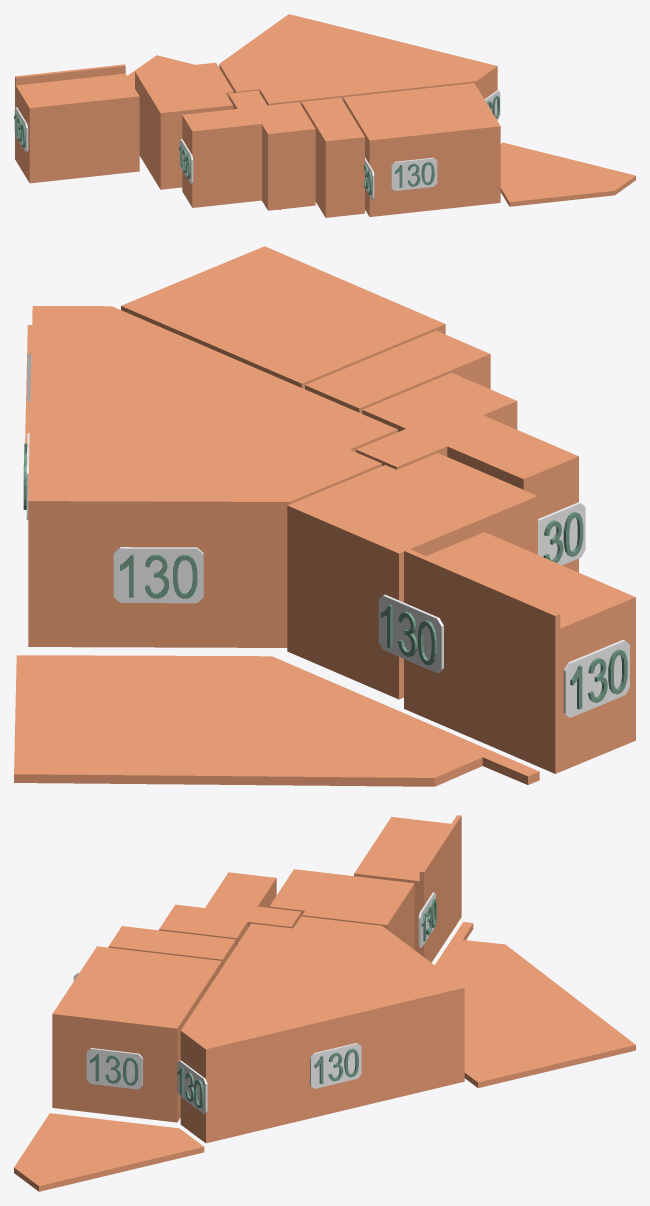
3 views of the same model, one above another, from view 1: azimuth 30°, elevation 25°; view 2: azimuth 150°, elevation 25°; view 3: azimuth 270°, elevation 25° (orthographic). The views are drawn at different scales.
Visible parts, largest first — view 1: g_0, g_1, g_3, g_5, g_4, g_2, g_7, g_39, g_6; view 2: g_0, g_6, g_5, g_4, g_1, g_3, g_2, g_19, g_11, g_43, g_23; view 3: g_0, g_1, g_6, g_7, g_5, g_4, g_3, g_2, g_35, g_31, g_15.
Boxes of the visible parts, x1,y1,x2,y2 form: g_0: (219, 14, 497, 120); g_1: (343, 83, 500, 216); g_3: (182, 90, 315, 210); g_5: (15, 64, 139, 183); g_4: (135, 62, 233, 189); g_2: (301, 97, 364, 217); g_7: (500, 142, 635, 206); g_39: (391, 157, 437, 190); g_6: (127, 55, 194, 87); g_0: (28, 306, 397, 647); g_6: (14, 655, 539, 786); g_5: (404, 532, 635, 773); g_4: (287, 453, 537, 699); g_1: (121, 246, 445, 389); g_3: (356, 373, 578, 572); g_2: (305, 330, 490, 413); g_19: (113, 547, 203, 603); g_11: (563, 639, 629, 717); g_43: (378, 594, 443, 672); g_23: (538, 502, 585, 565); g_0: (180, 916, 464, 1143); g_1: (52, 946, 221, 1122); g_6: (435, 922, 635, 1087); g_7: (14, 1113, 204, 1191); g_5: (354, 815, 461, 962); g_4: (269, 869, 414, 949); g_3: (159, 872, 301, 946); g_2: (108, 926, 235, 967); g_35: (86, 1048, 142, 1089); g_31: (310, 1043, 361, 1088); g_15: (177, 1060, 207, 1113).
Size of the model in its own units: 15.8 by 2.85 by 14.96.
